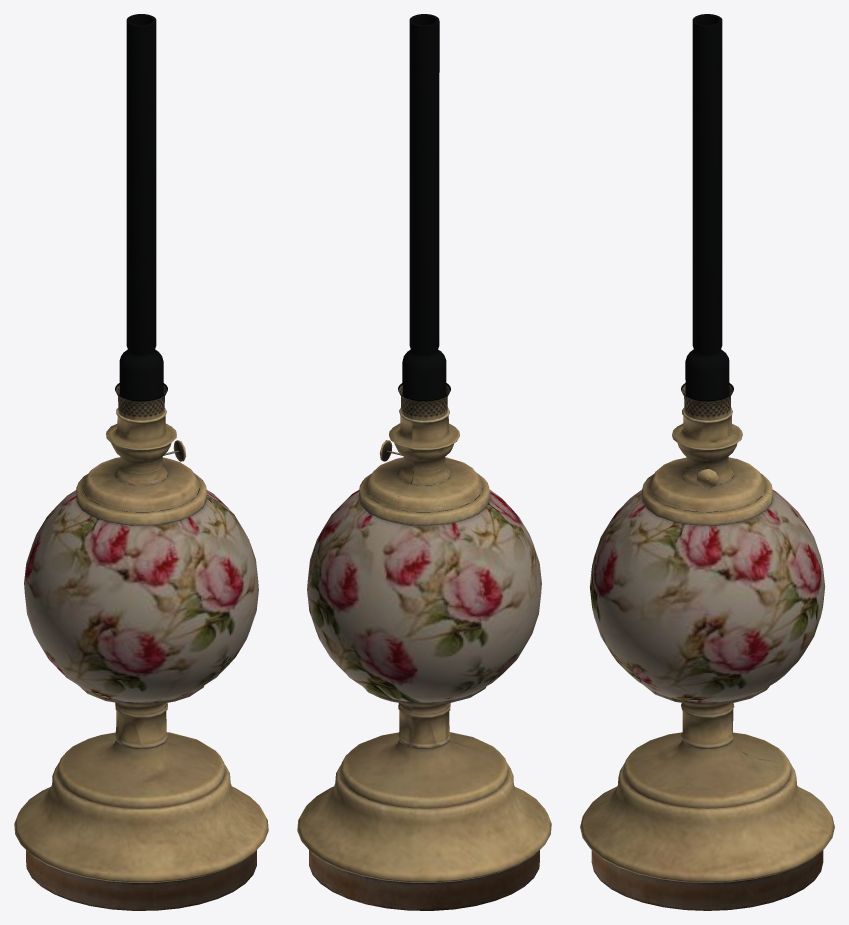
The model's file is ph_vintage_oil_lamp.glb.
The picture shows the model from 3 angles, left to right: view 1: azimuth 30°, elevation 25°; view 2: azimuth 150°, elevation 25°; view 3: azimuth 270°, elevation 25°; orthographic projection.
Parts seen in each view (by area): view 1: vintage_oil_lamp, vintage_oil_lamp_glass; view 2: vintage_oil_lamp, vintage_oil_lamp_glass; view 3: vintage_oil_lamp, vintage_oil_lamp_glass.
Part boxes in pixels (x1,y1,x2,y2): vintage_oil_lamp: (14,408,268,910); vintage_oil_lamp_glass: (115,14,167,420); vintage_oil_lamp: (297,407,551,910); vintage_oil_lamp_glass: (398,14,450,422); vintage_oil_lamp: (580,407,834,910); vintage_oil_lamp_glass: (681,14,733,420).
Bounding box in the file's own units: 0.22 × 0.8016 × 0.22.
3 materials, 3 textured.
